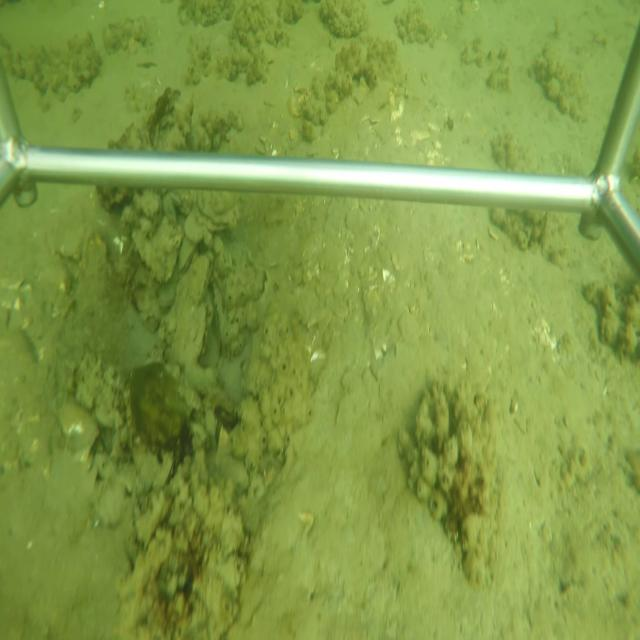Oyster-Closed: (158, 273, 209, 363), (188, 256, 211, 299), (178, 236, 197, 274)
